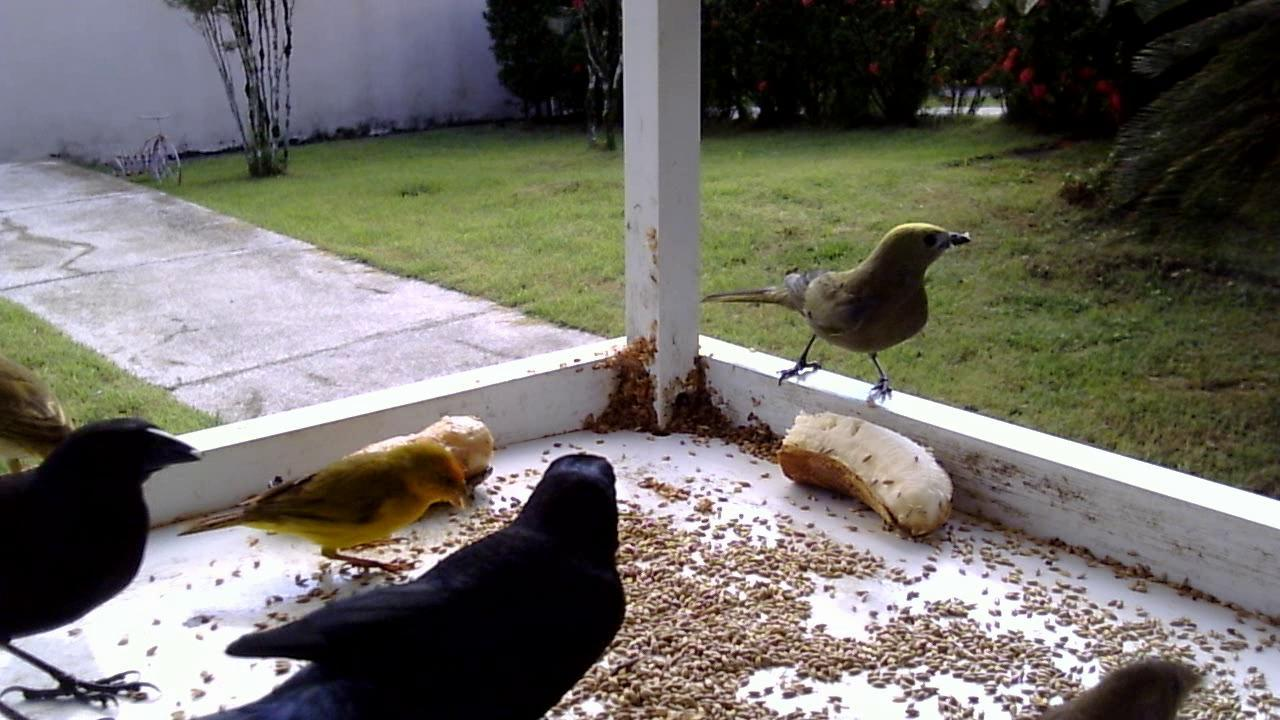canario_do_amazonas: (162, 417, 488, 582), (1, 354, 84, 486)
chupim: (221, 452, 630, 720), (1, 392, 209, 720)
sanhaco_do_coqueiro: (693, 222, 972, 411)
